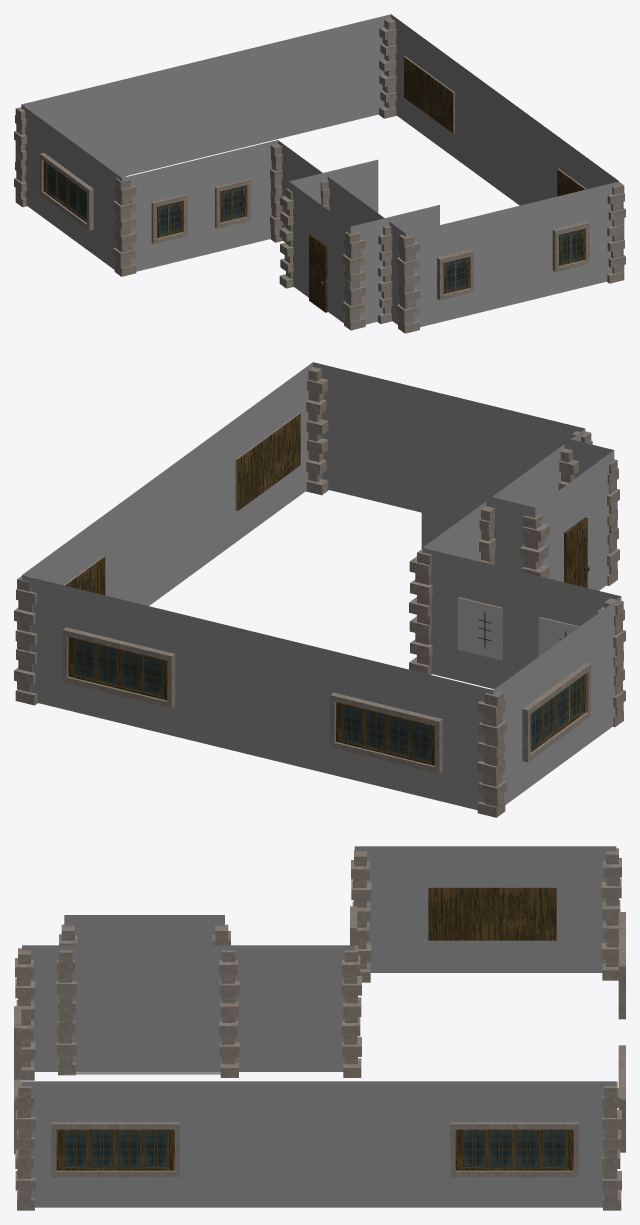
The model's file is COBBLEWALLFIXED.fbx.
The picture shows the model from 3 angles, top to bottom: view 1: azimuth 30°, elevation 25°; view 2: azimuth 150°, elevation 25°; view 3: azimuth 270°, elevation 25°; orthographic projection. The views are drawn at different scales.
Visible parts, largest first — view 1: Object1239, Object1432; view 2: Object1239, Object1432; view 3: Object1239, Object1432.
Boxes of the visible parts, x1,y1,x2,y2 form: Object1239: (21, 14, 619, 327); Object1432: (14, 18, 625, 333); Object1239: (22, 362, 621, 810); Object1432: (14, 367, 625, 817); Object1239: (22, 846, 616, 1207); Object1432: (14, 848, 625, 1210).
Bounding box in the file's own units: 90.27 × 23.32 × 96.96.
